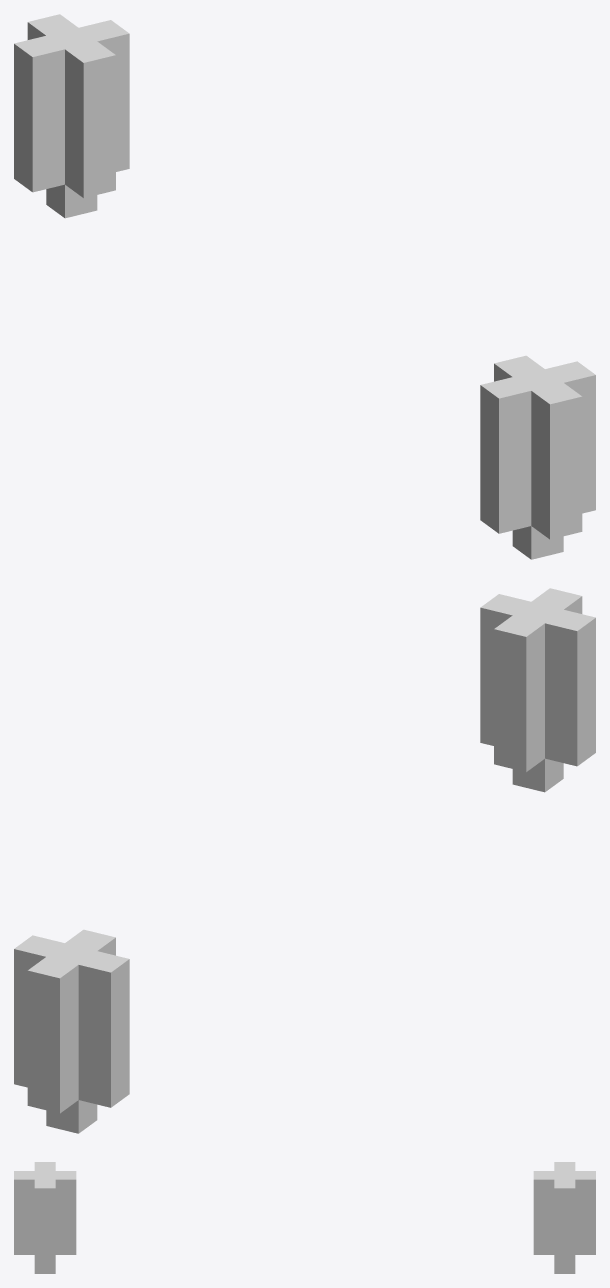
The model's file is Level1-20-7.obj.
The picture shows the model from 3 angles, top to bottom: view 1: azimuth 30°, elevation 25°; view 2: azimuth 150°, elevation 25°; view 3: azimuth 270°, elevation 25°; orthographic projection. The views are drawn at different scales.
Visible parts, largest first — view 1: Level1-20-7; view 2: Level1-20-7; view 3: Level1-20-7.
Part boxes in pixels (x1,y1,x2,y2): Level1-20-7: (14, 14, 595, 559); Level1-20-7: (14, 588, 595, 1133); Level1-20-7: (14, 1162, 595, 1273).
Size of the model in its own units: 3 by 5 by 28.
1 material, 1 textured.
